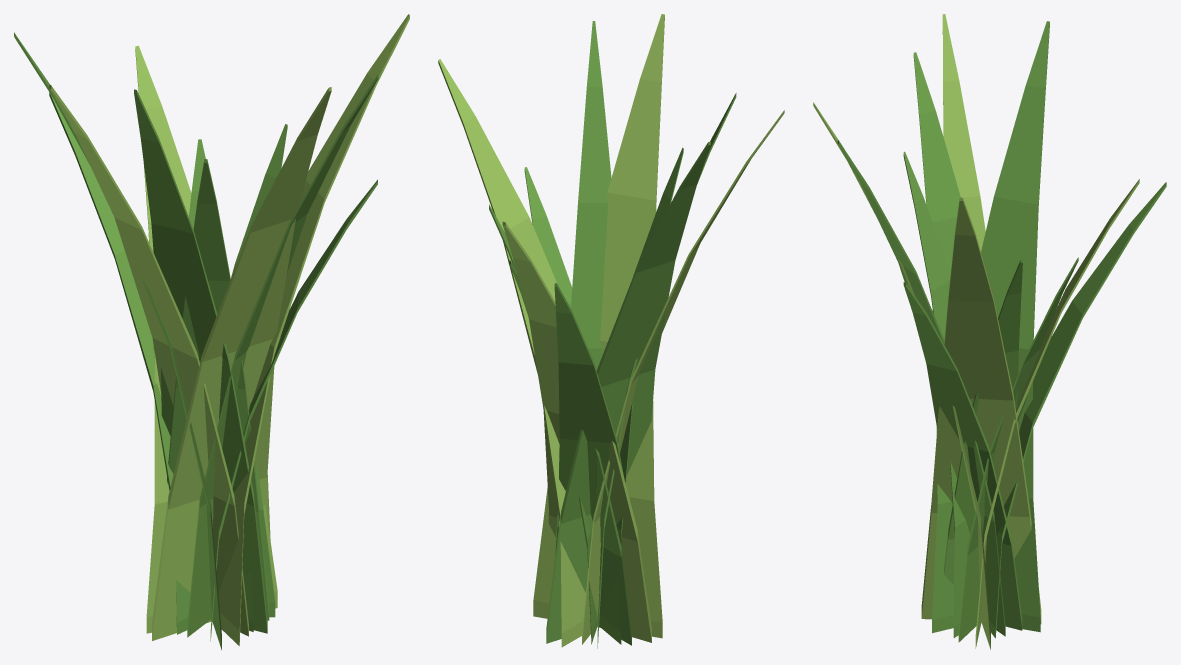
The model's file is SM_Grass_Wild.fbx.
The picture shows the model from 3 angles, left to right: view 1: azimuth 30°, elevation 25°; view 2: azimuth 150°, elevation 25°; view 3: azimuth 270°, elevation 25°; orthographic projection. The views are drawn at different scales.
Parts seen in each view (by area): view 1: SM_Grass_Wild; view 2: SM_Grass_Wild; view 3: SM_Grass_Wild.
Part boxes in pixels (bbox=[...]): SM_Grass_Wild: bbox=[14, 14, 409, 650]; SM_Grass_Wild: bbox=[438, 14, 784, 648]; SM_Grass_Wild: bbox=[813, 14, 1166, 649].
Bounding box in the file's own units: 0.3933 × 0.6109 × 0.368.
